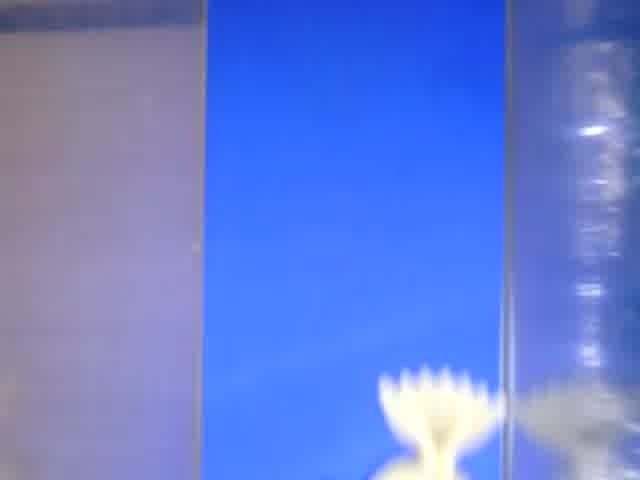farfalle: (365, 369, 505, 480)
